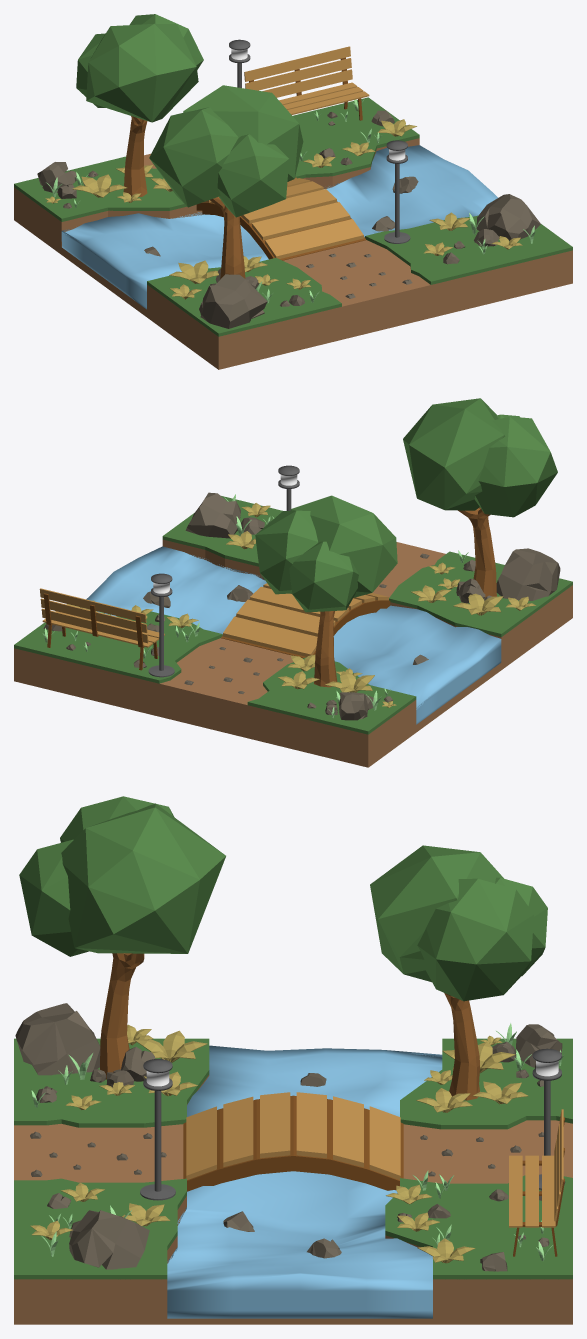
Rendered from park.glb.
3 renders of one model, top to bottom at view 1: azimuth 30°, elevation 25°; view 2: azimuth 150°, elevation 25°; view 3: azimuth 270°, elevation 25°, orthographic. The views are drawn at different scales.
Parts seen in each view (by area): view 1: Plane_6, Plane.002_8, Plane.001_7, Icosphere.003_99, Plane.005_11, Icosphere.001_97, Cube_12, Icosphere_95, Icosphere.002_98, Cube.004_54, Cube.006_56, Plane.007_100 (+9 smaller); view 2: Plane_6, Plane.001_7, Plane.002_8, Icosphere_95, Icosphere.001_97, Plane.005_11, Icosphere.003_99, Icosphere.005_102, Icosphere.004_101, Cube_12, Cube.004_54, Cube.006_56 (+7 smaller); view 3: Plane.001_7, Plane.002_8, Plane_6, Icosphere_95, Plane.005_11, Icosphere.004_101, Icosphere.003_99, Cube.004_54, Icosphere.002_98, Cube_12, Cube.006_56, Plane.006_96 (+15 smaller).
Boxes of the visible parts, x1=… form: Plane_6: x1=14, y1=138, x2=572, y2=369; Plane.002_8: x1=14, y1=97, x2=572, y2=336; Plane.001_7: x1=61, y1=145, x2=497, y2=309; Icosphere.003_99: x1=86, y1=23, x2=198, y2=122; Plane.005_11: x1=201, y1=177, x2=365, y2=260; Icosphere.001_97: x1=149, y1=107, x2=238, y2=207; Cube_12: x1=244, y1=46, x2=369, y2=114; Icosphere_95: x1=183, y1=85, x2=303, y2=181; Icosphere.002_98: x1=217, y1=134, x2=289, y2=217; Cube.004_54: x1=199, y1=274, x2=267, y2=328; Cube.006_56: x1=476, y1=194, x2=540, y2=240; Plane.007_100: x1=123, y1=116, x2=147, y2=196; Plane_6: x1=14, y1=539, x2=572, y2=767; Plane.001_7: x1=86, y1=546, x2=501, y2=724; Plane.002_8: x1=14, y1=496, x2=572, y2=734; Icosphere_95: x1=403, y1=398, x2=505, y2=510; Icosphere.001_97: x1=474, y1=416, x2=557, y2=517; Plane.005_11: x1=221, y1=583, x2=389, y2=658; Icosphere.003_99: x1=290, y1=495, x2=397, y2=597; Icosphere.005_102: x1=289, y1=541, x2=358, y2=612; Icosphere.004_101: x1=255, y1=510, x2=317, y2=594; Cube_12: x1=39, y1=588, x2=164, y2=647; Cube.004_54: x1=496, y1=548, x2=560, y2=600; Cube.006_56: x1=185, y1=492, x2=240, y2=538; Plane.001_7: x1=167, y1=1045, x2=442, y2=1318; Plane.002_8: x1=14, y1=1038, x2=572, y2=1279; Plane_6: x1=14, y1=1075, x2=572, y2=1324; Icosphere_95: x1=61, y1=803, x2=225, y2=953; Plane.005_11: x1=183, y1=1092, x2=403, y2=1181; Icosphere.004_101: x1=417, y1=878, x2=533, y2=1001; Icosphere.003_99: x1=370, y1=845, x2=503, y2=982; Cube.004_54: x1=15, y1=1003, x2=100, y2=1075; Icosphere.002_98: x1=19, y1=839, x2=88, y2=956; Cube_12: x1=509, y1=1109, x2=563, y2=1227; Cube.006_56: x1=69, y1=1210, x2=149, y2=1269; Plane.006_96: x1=100, y1=953, x2=144, y2=1079.
Size of the model in its own units: 14.64 by 8.78 by 13.97.
